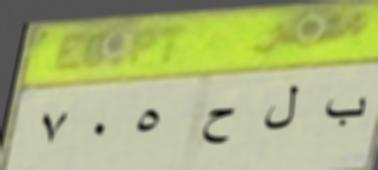0: (88, 116, 109, 150)
5: (135, 106, 167, 137)
7: (36, 108, 72, 150)
7aa: (201, 102, 238, 153)
baa: (320, 87, 370, 136)
laam: (260, 84, 304, 140)
